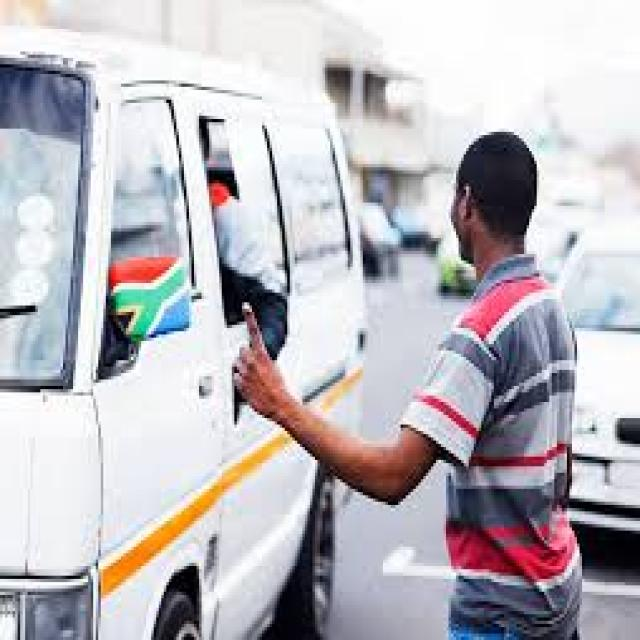MiniBus taxi: (2, 25, 375, 640)
Pedestrians: (229, 125, 590, 640)
